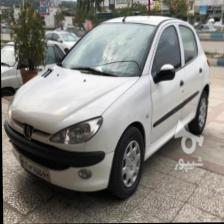plate: (18, 154, 50, 181)
